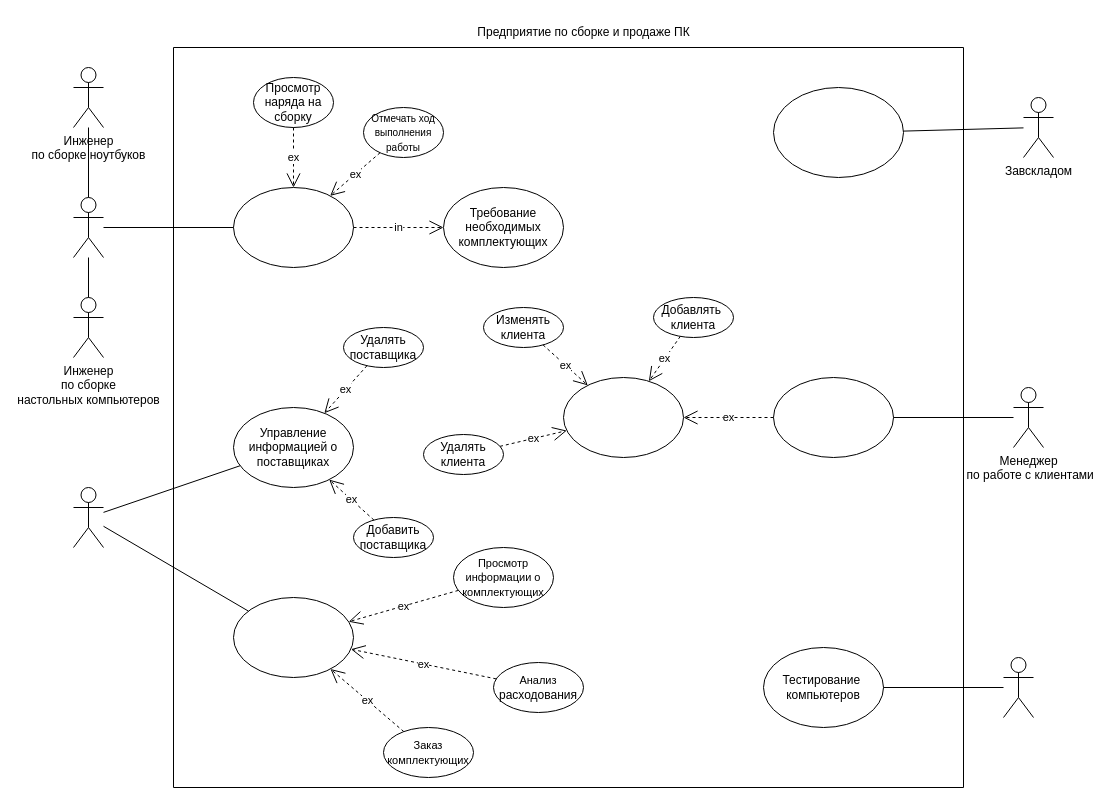
Some shapes in this 1111 by 805 pixel diagram are drawn without their labels. Here are the shapes that lost their labels. From the top down, the centre of each, then its label:
(x=838, y=132): Учет поступления и выдачи комплектующих
(x=88, y=227): Менеджер по сборке
(x=293, y=227): Сборка компьютеров
(x=623, y=417): Управление информацией о клиенте
(x=833, y=417): Работа с заказом
(x=88, y=517): Менеджер по снабжению
(x=293, y=637): Управление информацией о комплектующих
(x=1018, y=687): Инженер по тестированию
